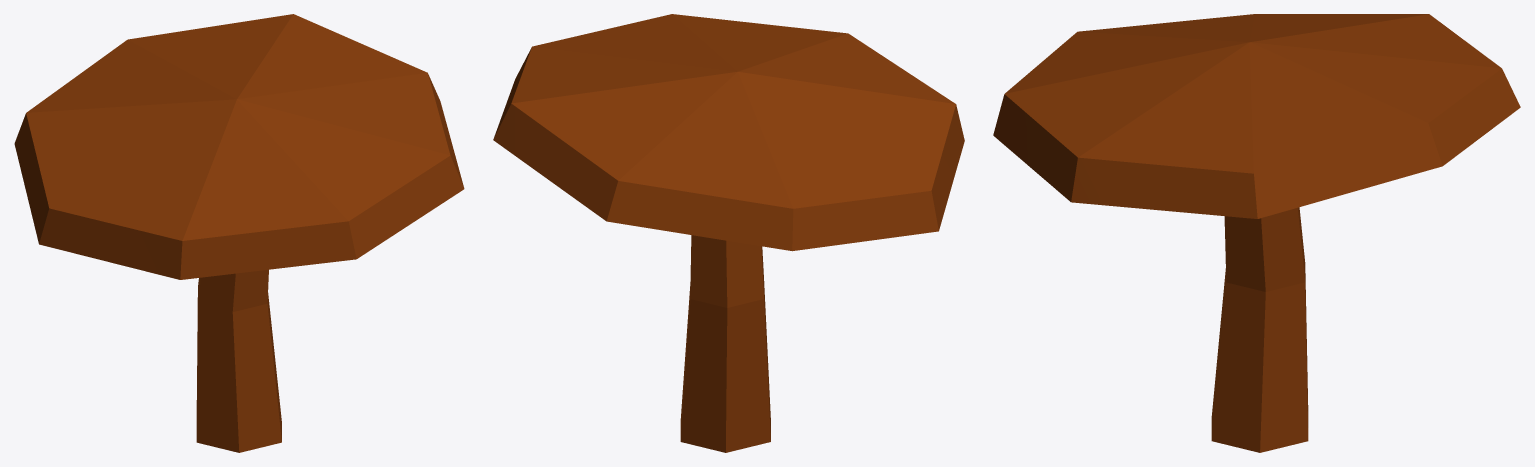
Rendered from Mushroom_e_a_02.fbx.
3 renders of one model, left to right at view 1: azimuth 30°, elevation 25°; view 2: azimuth 150°, elevation 25°; view 3: azimuth 270°, elevation 25°, orthographic. The views are drawn at different scales.
Visible parts, largest first — view 1: Mushroom_e_a_02_LOD0; view 2: Mushroom_e_a_02_LOD0; view 3: Mushroom_e_a_02_LOD0.
Part boxes in pixels (<box>): Mushroom_e_a_02_LOD0: <box>14,14,464,452</box>; Mushroom_e_a_02_LOD0: <box>493,14,964,452</box>; Mushroom_e_a_02_LOD0: <box>993,14,1520,452</box>.
Size of what is drawn, in the model's own units: 15.38 by 12.38 by 15.45.
